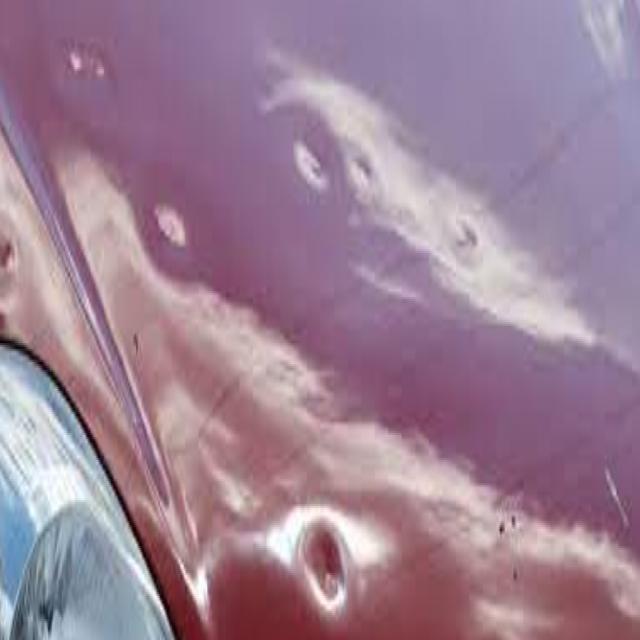dents: (135, 162, 196, 320), (291, 478, 353, 630), (292, 114, 336, 216), (352, 114, 381, 209), (444, 205, 483, 266)
